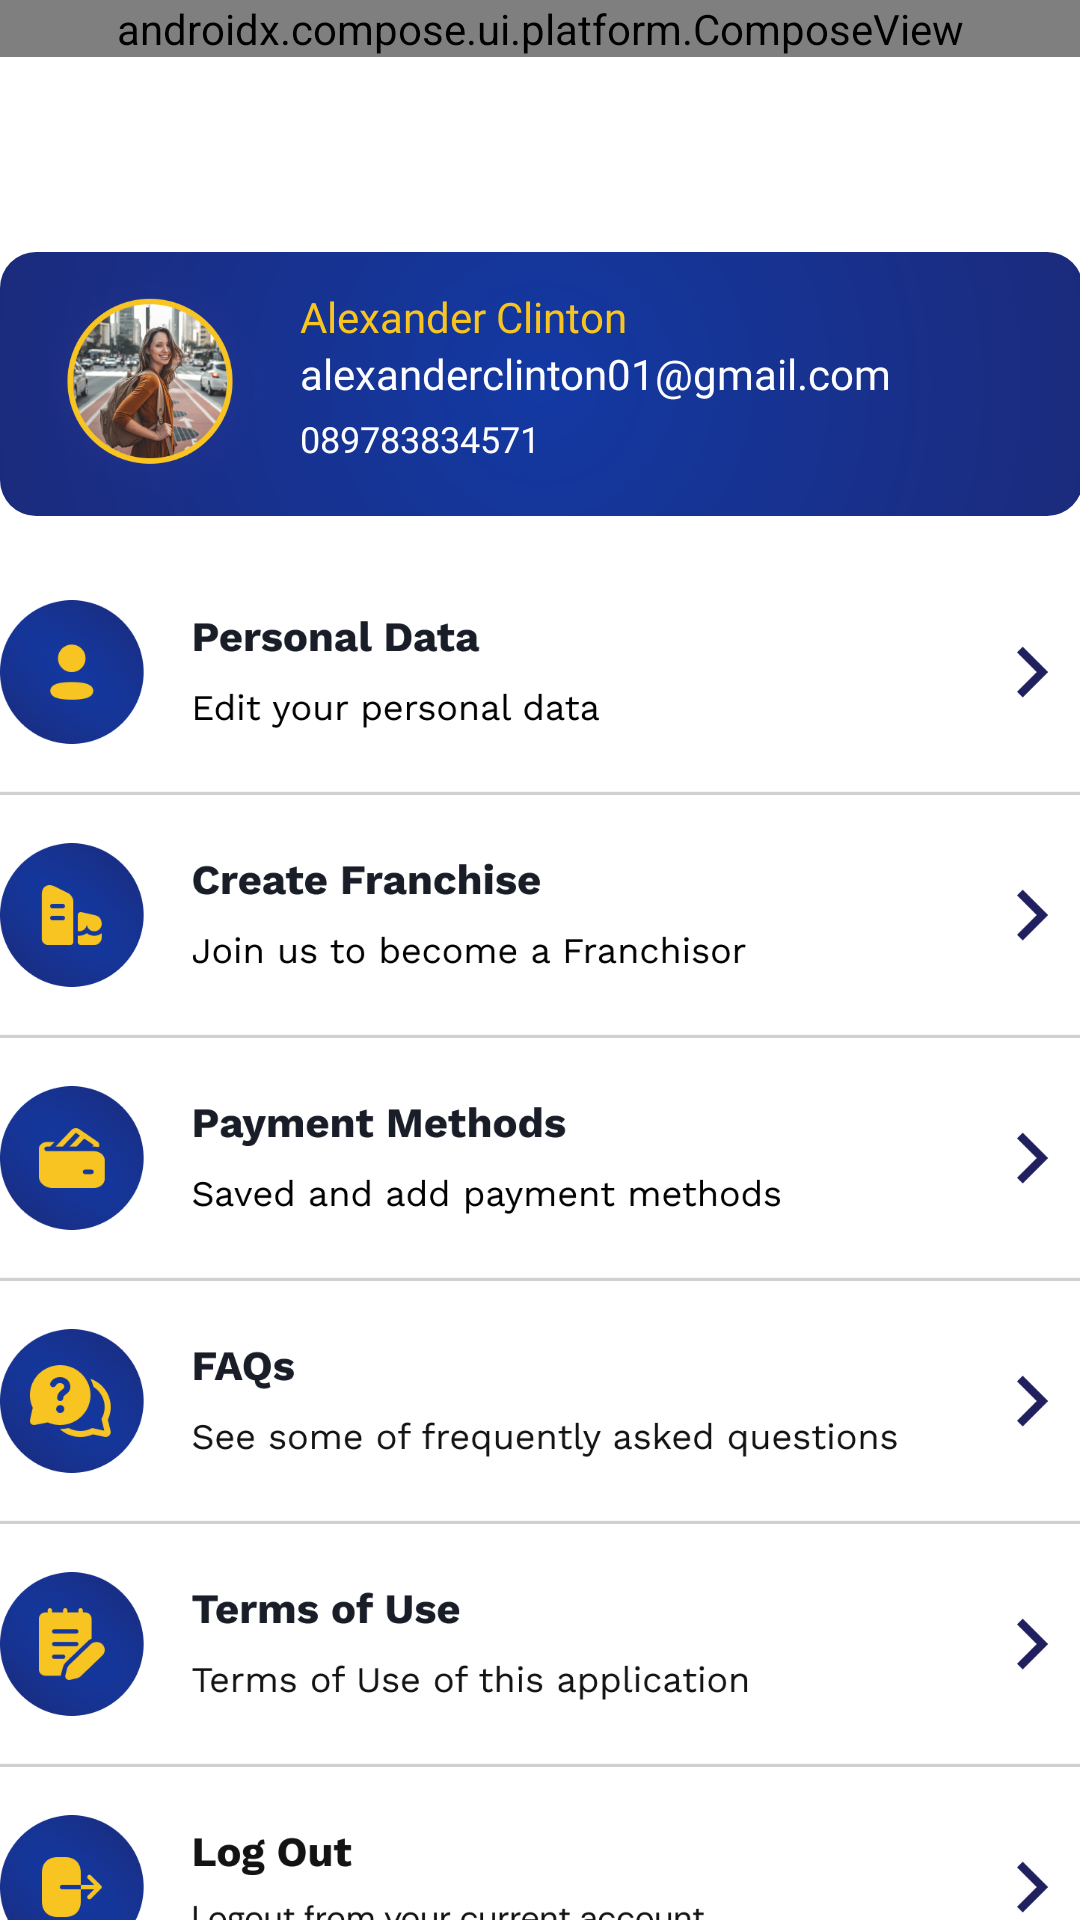

Where icons sit on this 1080x1920 app screen, as BBox(x1, y1, x2, y2):
photo profile: BBox(0, 252, 300, 516)
